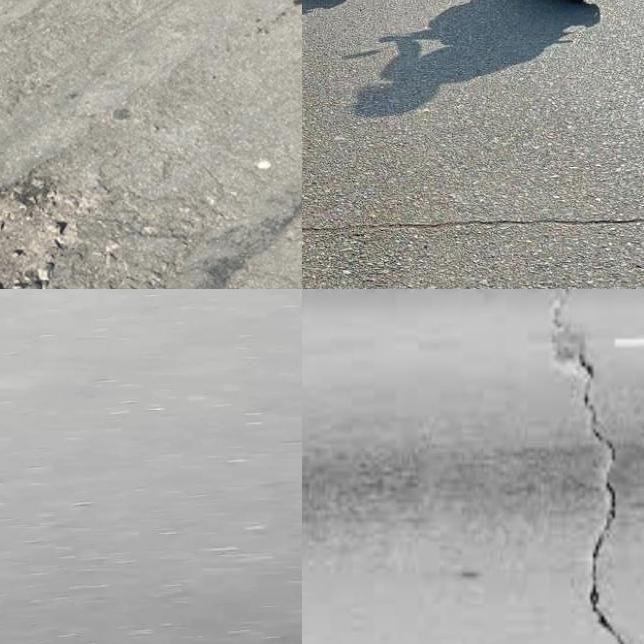Lubang: (0, 177, 84, 289)
Melintang: (302, 200, 644, 246)
Memanjang: (535, 289, 644, 644)
